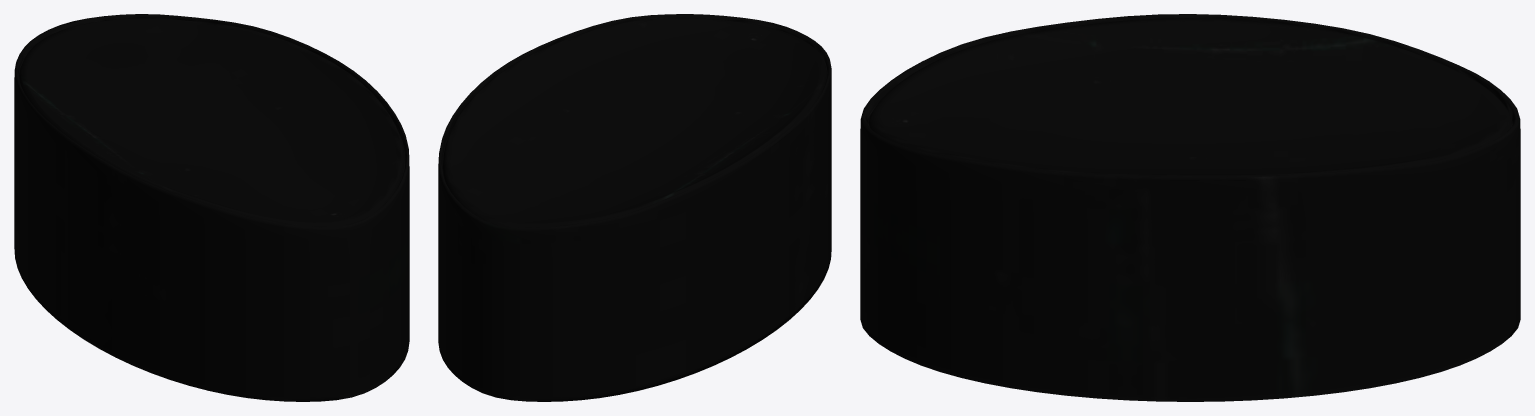
The picture shows the model from 3 angles, left to right: view 1: azimuth 30°, elevation 25°; view 2: azimuth 150°, elevation 25°; view 3: azimuth 270°, elevation 25°; orthographic projection. The views are drawn at different scales.
Parts seen in each view (by area): view 1: Circle.001; view 2: Circle.001; view 3: Circle.001.
Boxes of the visible parts, box(x1,y1,x2,y2) form: Circle.001: box(14, 14, 409, 401); Circle.001: box(438, 14, 831, 401); Circle.001: box(860, 14, 1520, 401).
Bounding box in the file's own units: 119 × 76 × 202.
1 material, 1 textured.
